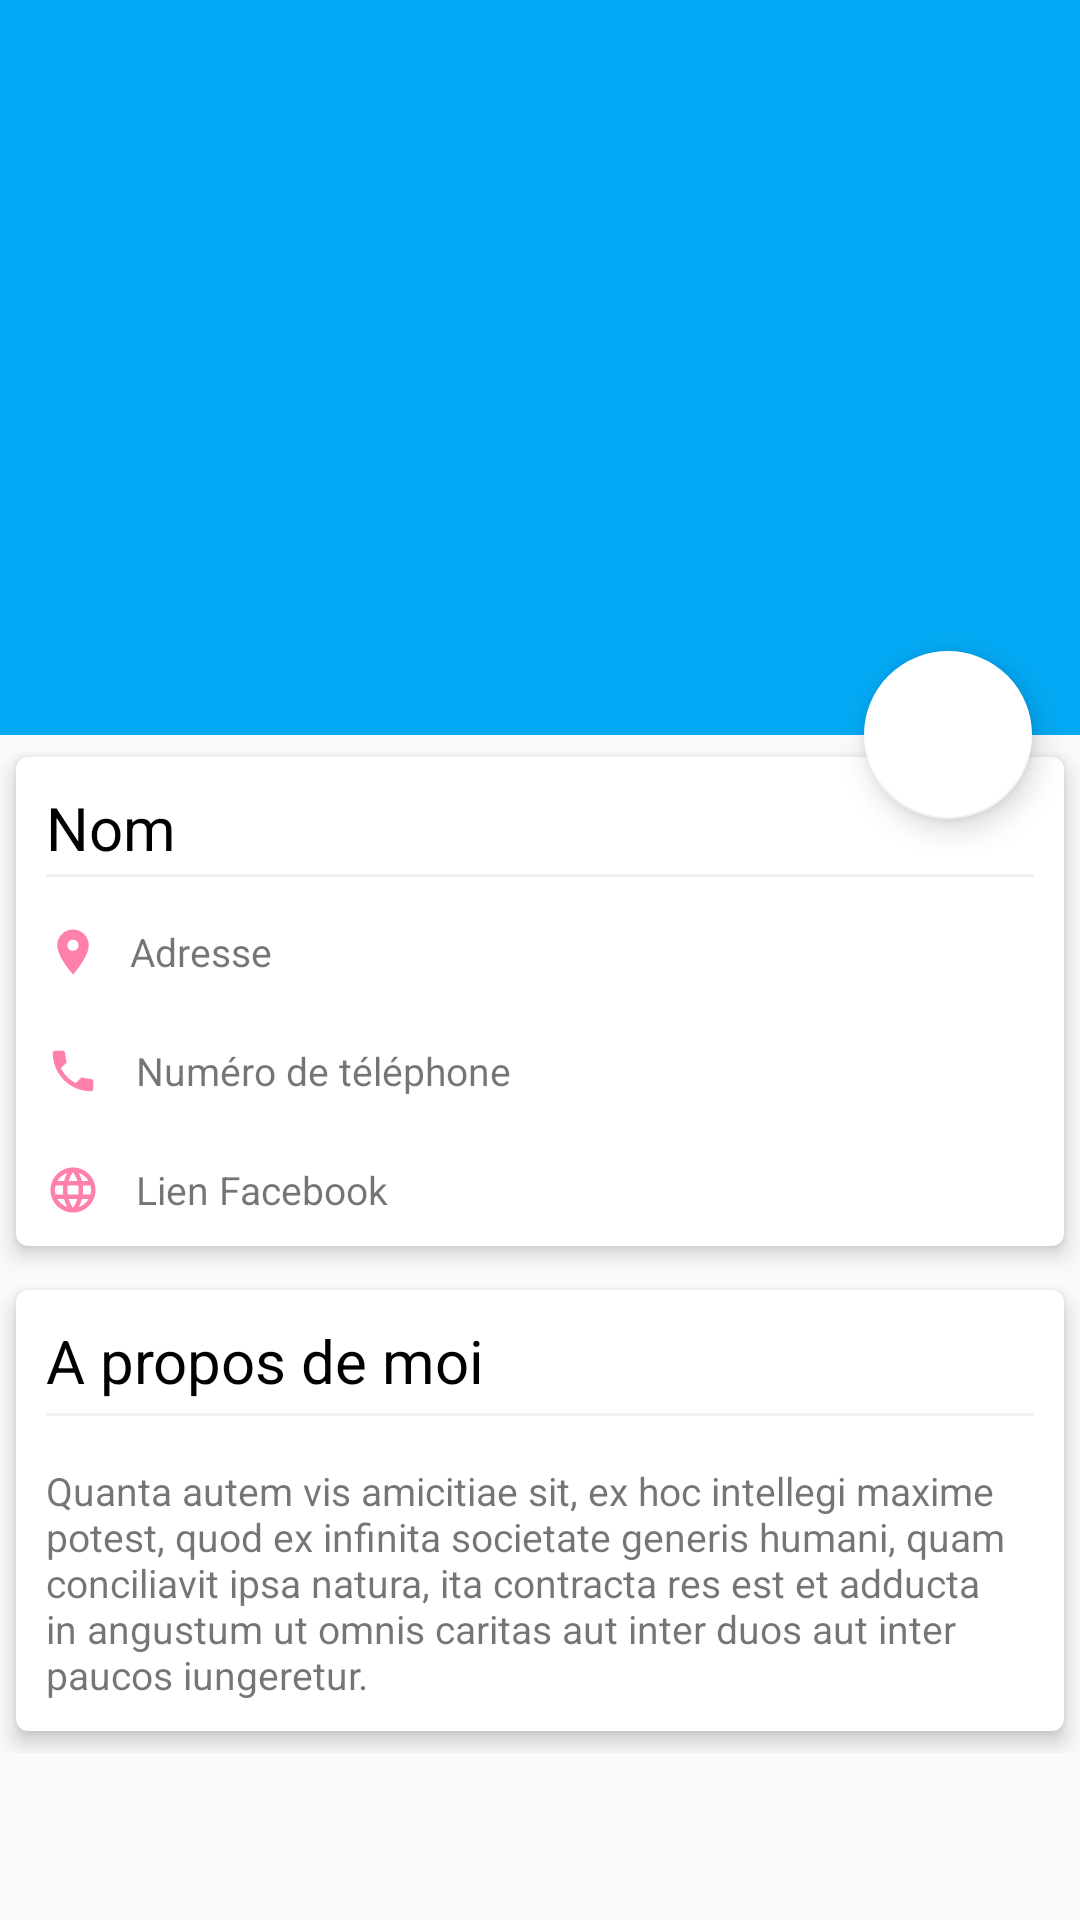

Icons on this 1080 x 1920 Android screen, each with the point to tap as (x,y):
icon localisation: (73,951)
language: (73,1190)
